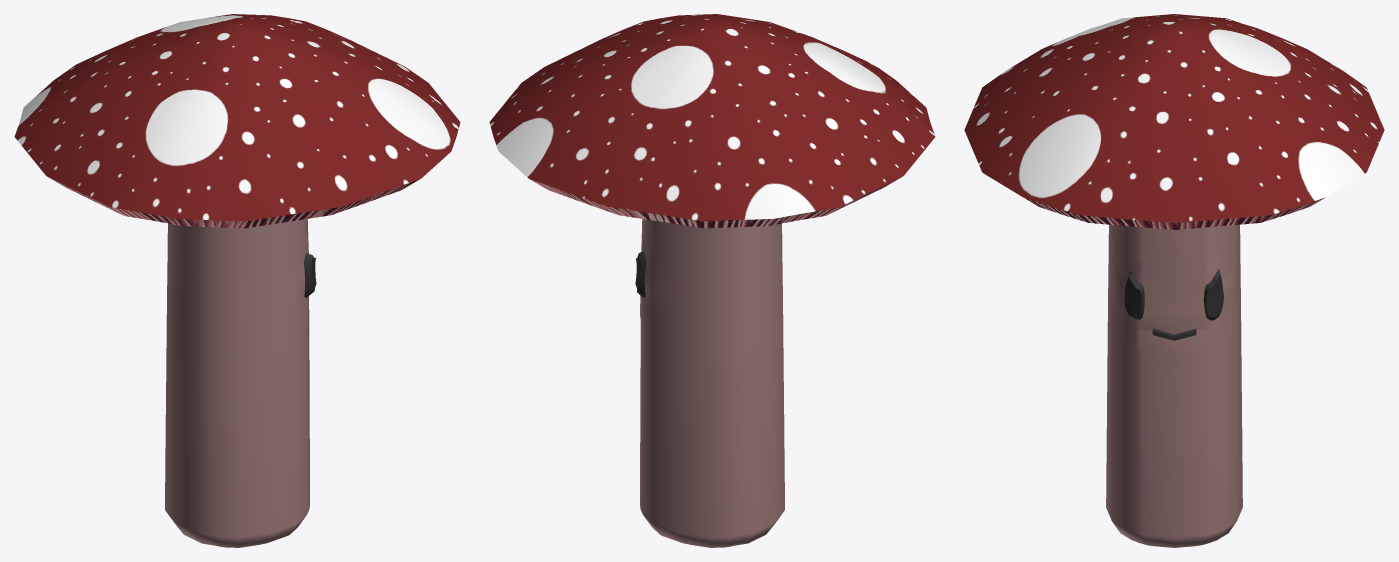
Rendered from mushroomMonster_01_idleBounce.fbx.
3 views of the same model, side by side, from view 1: azimuth 30°, elevation 25°; view 2: azimuth 150°, elevation 25°; view 3: azimuth 270°, elevation 25° (orthographic).
Parts seen in each view (by area): view 1: mushroomBoi01_cap, mushroomBoi_01, mushroomBoi01_ridges; view 2: mushroomBoi01_cap, mushroomBoi_01, mushroomBoi01_ridges; view 3: mushroomBoi01_cap, mushroomBoi_01, mushroomBoi01_ridges.
Part boxes in pixels (bbox=[...]): mushroomBoi01_cap: bbox=[14, 14, 460, 221]; mushroomBoi_01: bbox=[165, 219, 316, 547]; mushroomBoi01_ridges: bbox=[48, 177, 419, 228]; mushroomBoi01_cap: bbox=[489, 14, 935, 221]; mushroomBoi_01: bbox=[635, 219, 784, 547]; mushroomBoi01_ridges: bbox=[530, 177, 901, 228]; mushroomBoi01_cap: bbox=[964, 14, 1384, 222]; mushroomBoi_01: bbox=[1106, 224, 1242, 547]; mushroomBoi01_ridges: bbox=[1023, 197, 1325, 229].
Size of the model in its own units: 80.61 by 102 by 76.9.
Materials: 4 (2 with a texture image).
